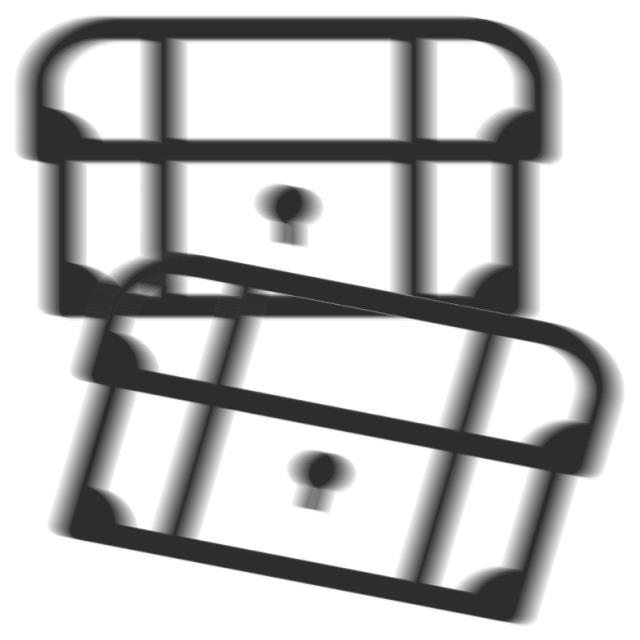treasure_box: (39, 240, 640, 634), (9, 9, 576, 330)
